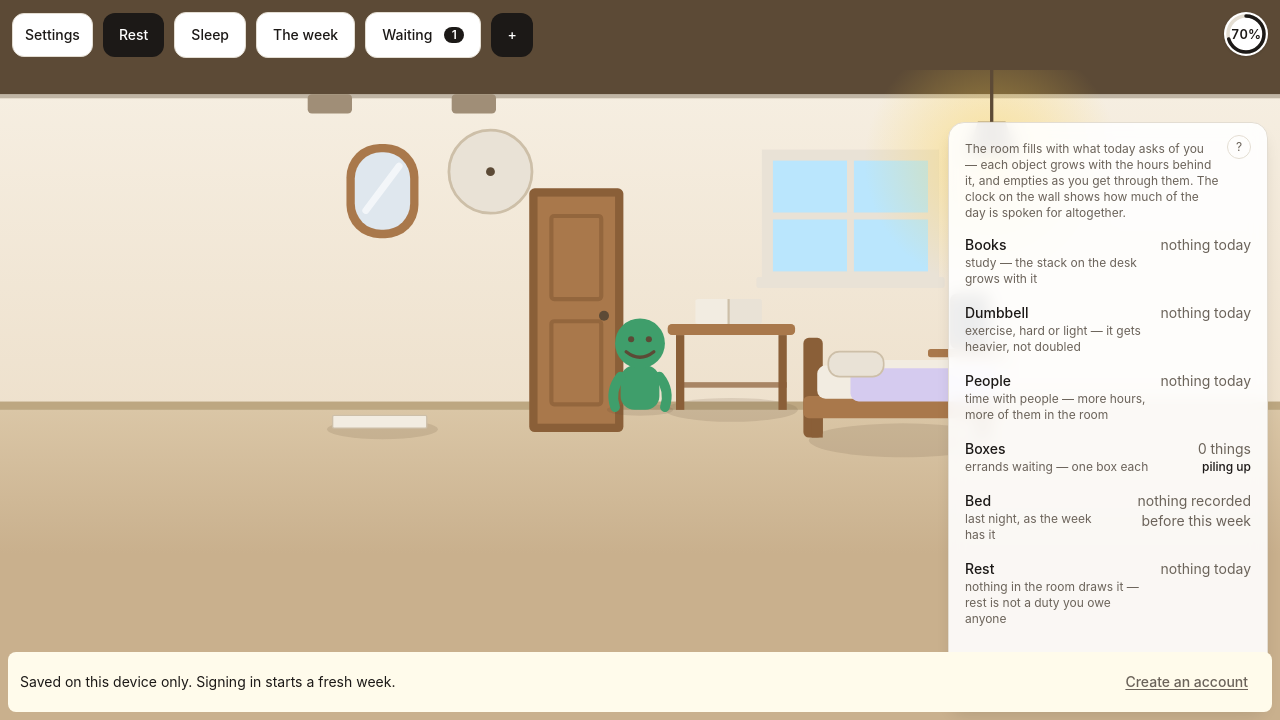
Test case: the micro-start page › is reachable from a block
Click the button with test id "open-week". click: x=306, y=35
box: [256,12,355,58]
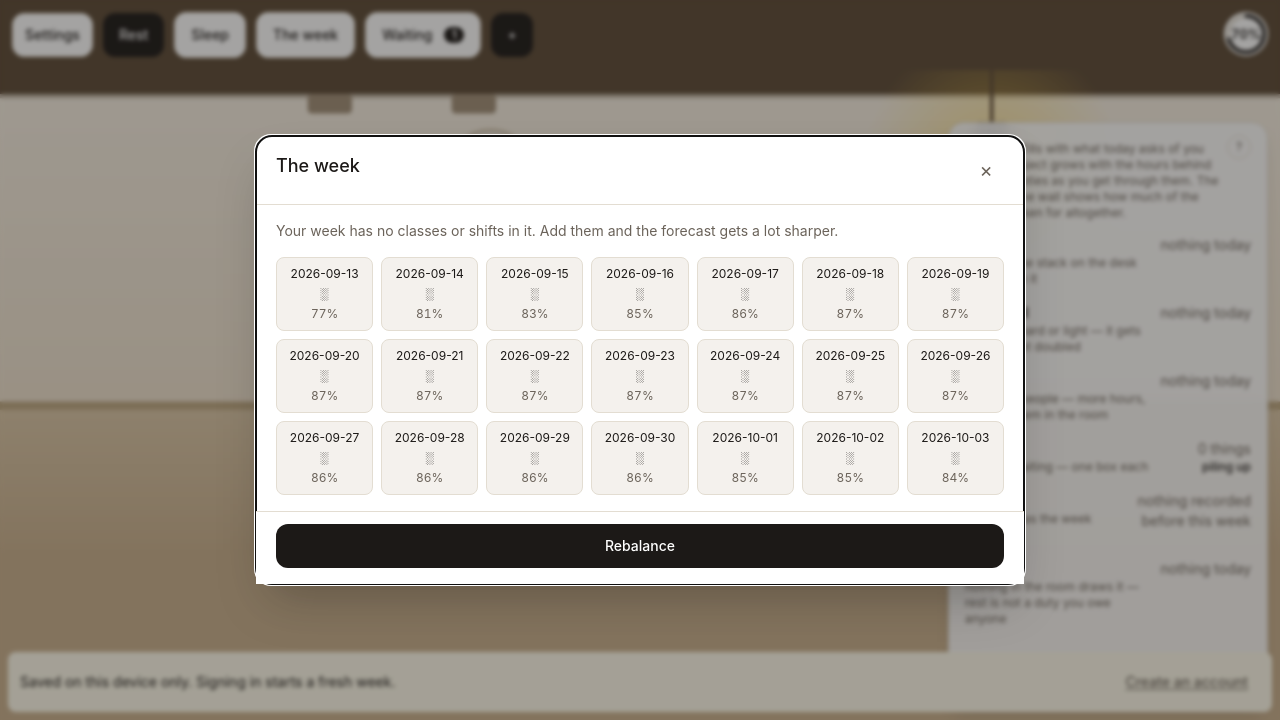
Click the button with test id "day-2". click: x=535, y=294
box: [486,257,583,331]
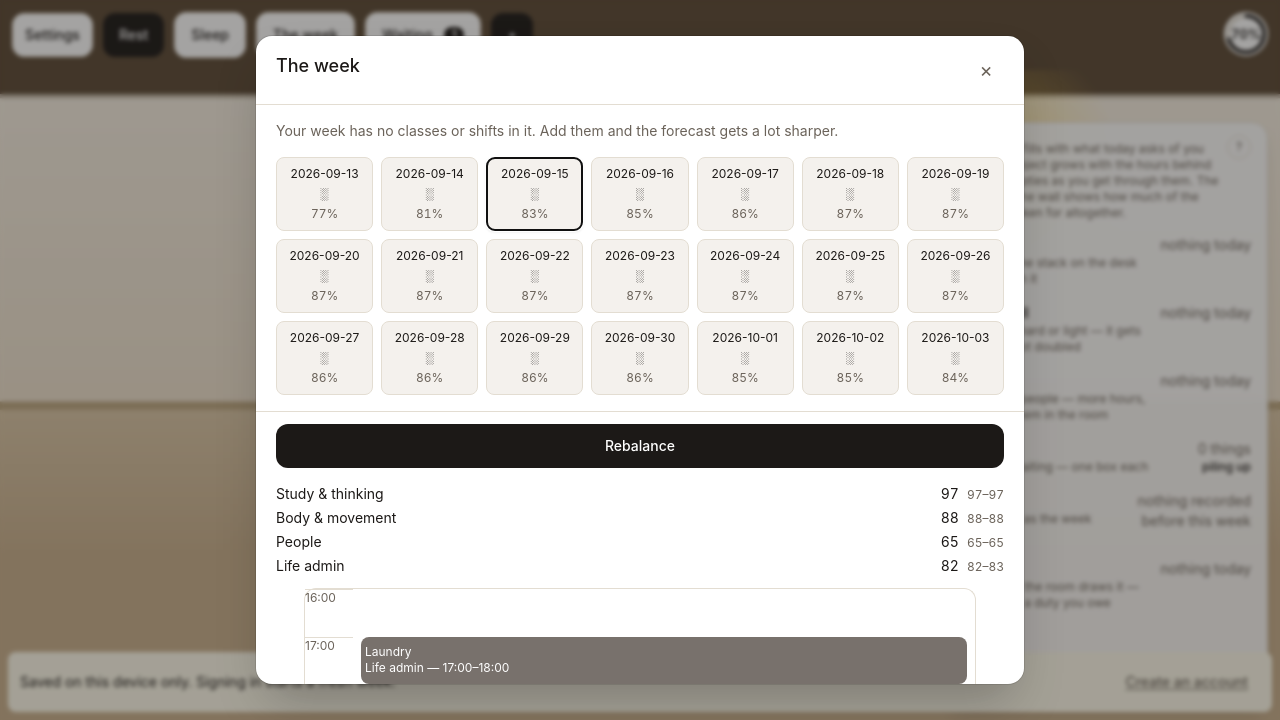
Click the button with test id "block-laundry". click: x=388, y=652
box: [361,637,967,684]
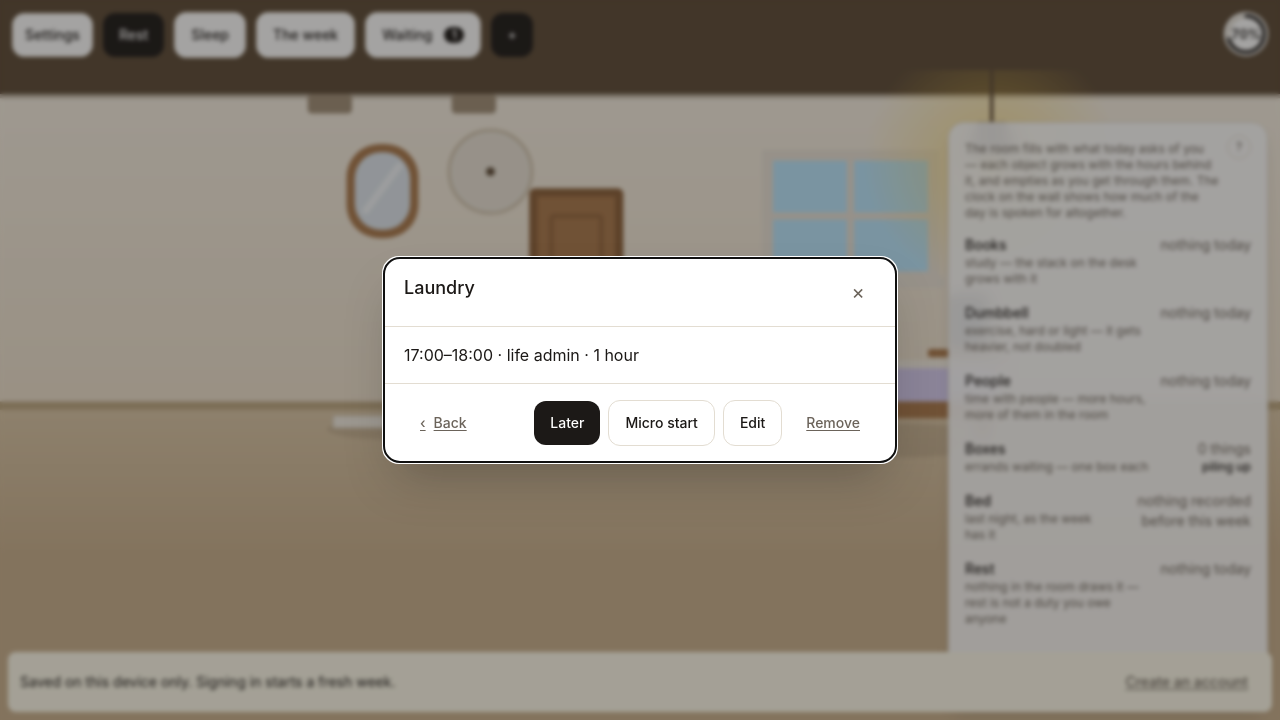
Click the button with test id "micro-start". click: x=662, y=423
box: [608,400,715,446]
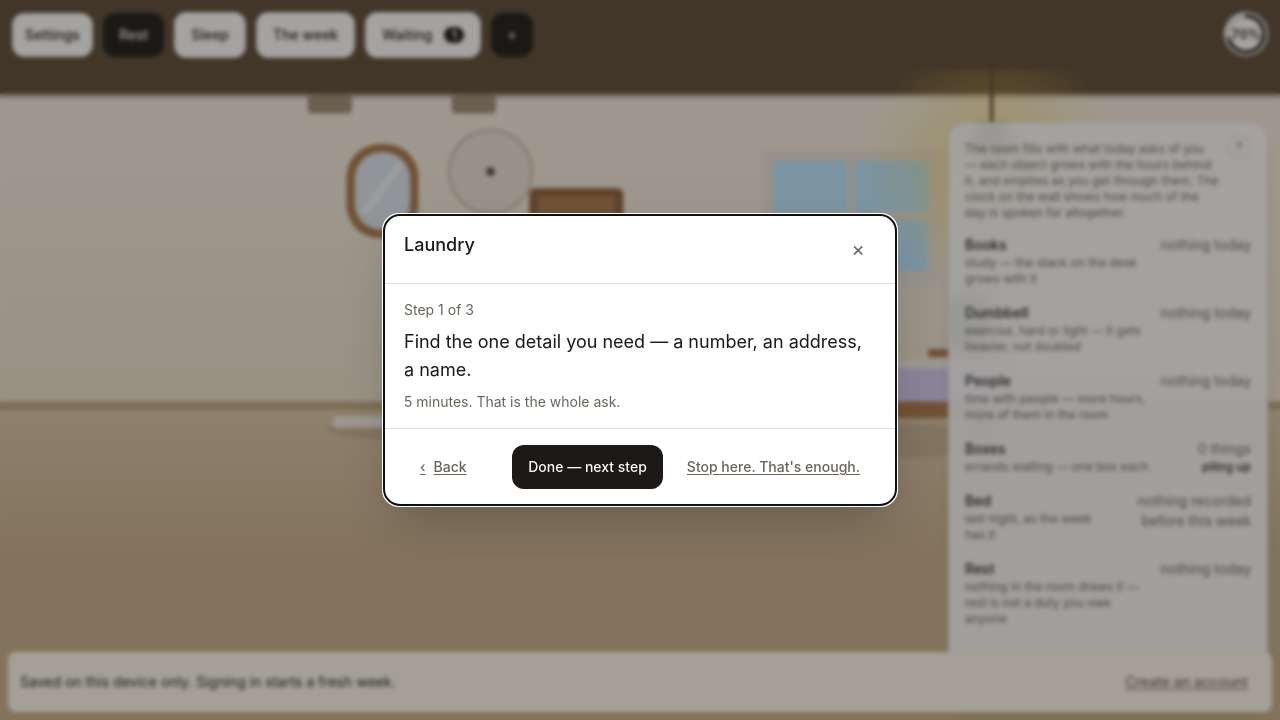
Expected: the text "Find the one detail you need — a number, an address, a name." is shown, [404,328,876,384]
